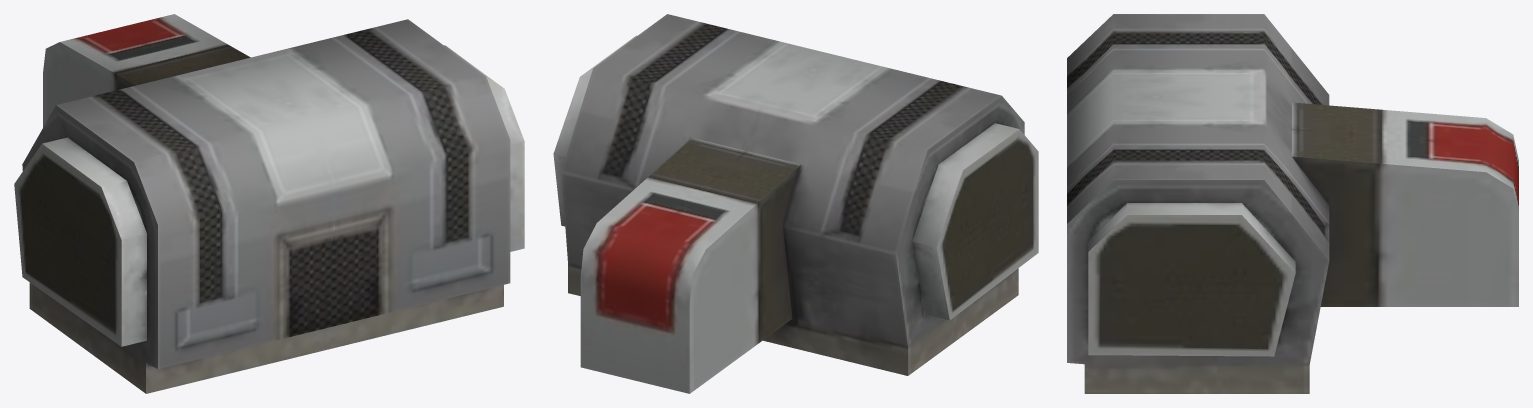
File: Part - Addon 07-CYK4iuT6.glb
3 renders of one model, left to right at view 1: azimuth 30°, elevation 25°; view 2: azimuth 150°, elevation 25°; view 3: azimuth 270°, elevation 25°, orthographic. The views are drawn at different scales.
Visible parts, largest first — view 1: Addon_07; view 2: Addon_07; view 3: Addon_07.
Part boxes in pixels (x1,y1,x2,y2): Addon_07: (14,14,524,393); Addon_07: (553,14,1038,393); Addon_07: (1067,14,1518,393).
Size of the model in its own units: 1.33 by 0.6821 by 1.31.
1 material, 1 textured.
